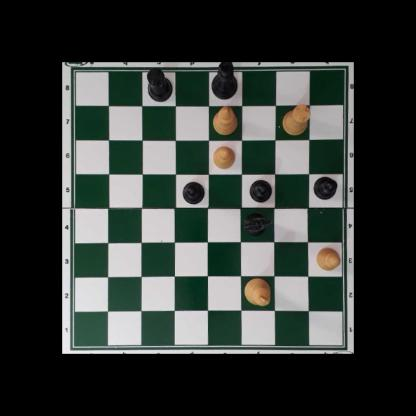black-king: (210, 63, 238, 102)
black-knight: (244, 212, 272, 236)
black-pawn: (312, 176, 337, 200), (181, 181, 205, 204), (249, 178, 271, 202)
black-rook: (145, 67, 174, 101)
white-bishop: (212, 106, 237, 135)
white-king: (243, 277, 271, 306)
white-pawn: (314, 247, 340, 272), (212, 144, 235, 169)
white-rook: (282, 103, 311, 136)
